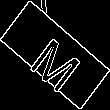M_NE: (24, 21, 86, 89)
